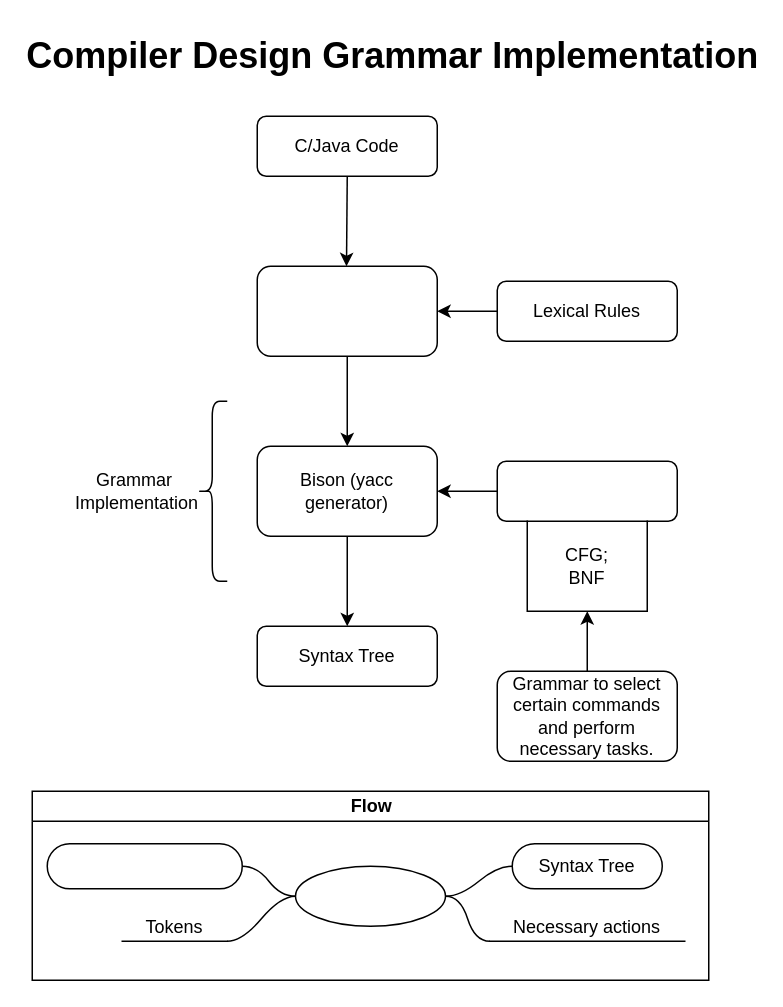
This 783x1007 diagram has some shape labels left out. Each missing label, with the centre of its shape:
"Grammar Design" goes at point (144, 865).
"Grammar Rules" goes at point (586, 490).
"Lexical Analyser" goes at point (346, 310).
"YACC" goes at point (370, 895).
